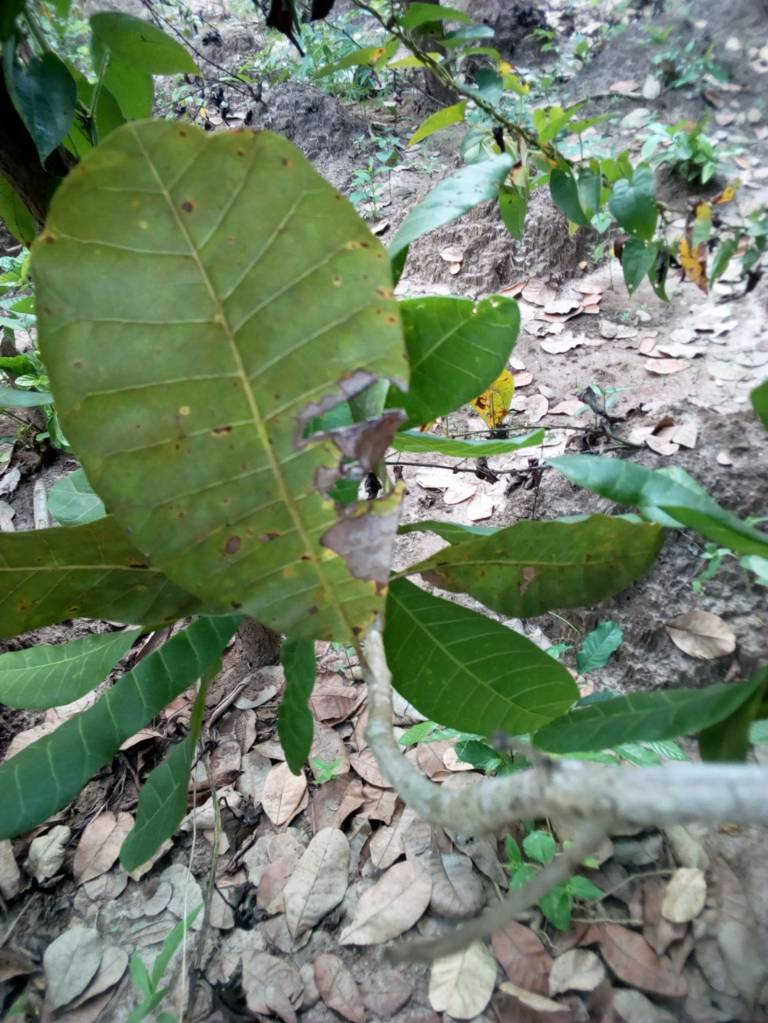Pestalotiose: (36, 122, 407, 646)
